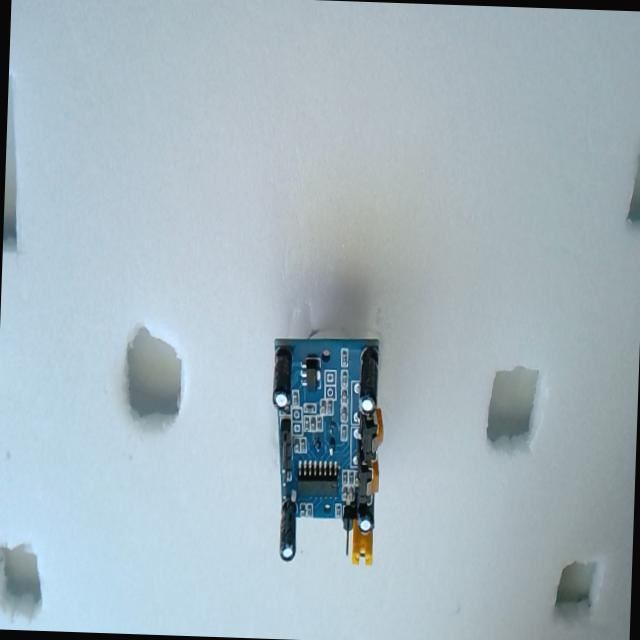Electrolytic capacitor: (358, 348, 379, 412), (276, 499, 297, 562), (272, 347, 292, 409), (356, 500, 374, 535)
IC: (296, 459, 340, 497)
pinheader: (276, 416, 298, 500)
